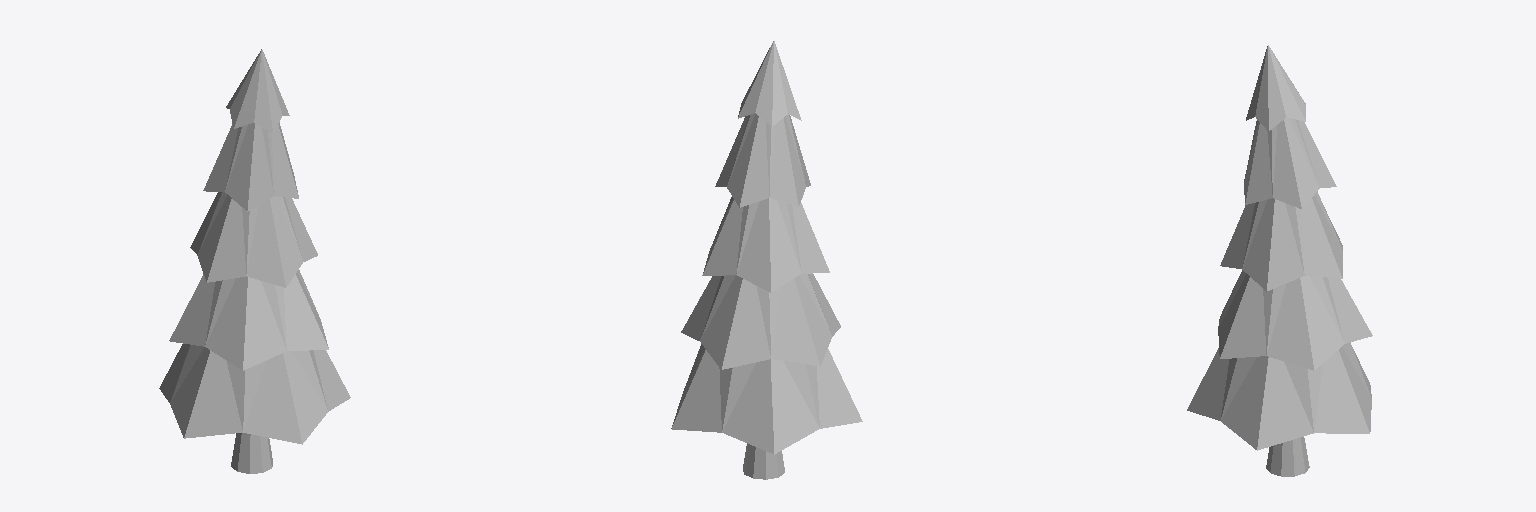
Rendered from TreeSwaying4.obj.
3 renders of one model, left to right at view 1: azimuth 30°, elevation 25°; view 2: azimuth 150°, elevation 25°; view 3: azimuth 270°, elevation 25°, orthographic.
Visible parts, largest first — view 1: Cylinder.001; view 2: Cylinder.001; view 3: Cylinder.001.
Part boxes in pixels (bbox=[...]): Cylinder.001: bbox=[159, 49, 350, 473]; Cylinder.001: bbox=[671, 41, 862, 479]; Cylinder.001: bbox=[1187, 45, 1372, 476].
Size of the model in its own units: 5.86 by 14.21 by 5.66.